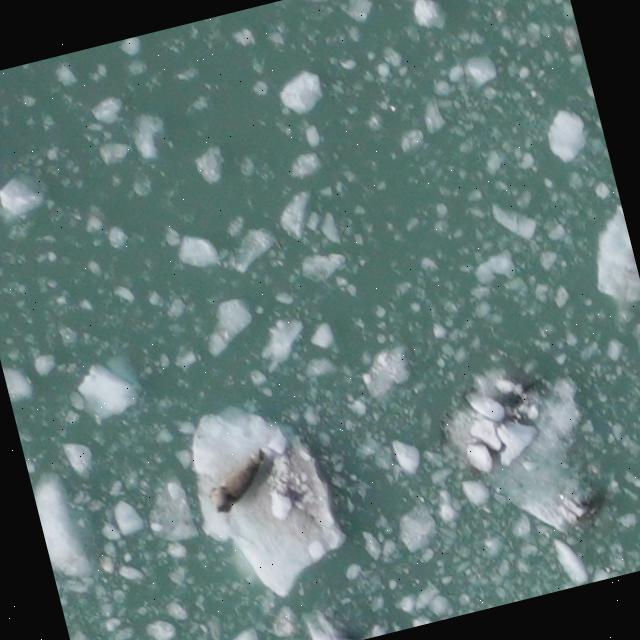seal: (193, 444, 279, 523)
